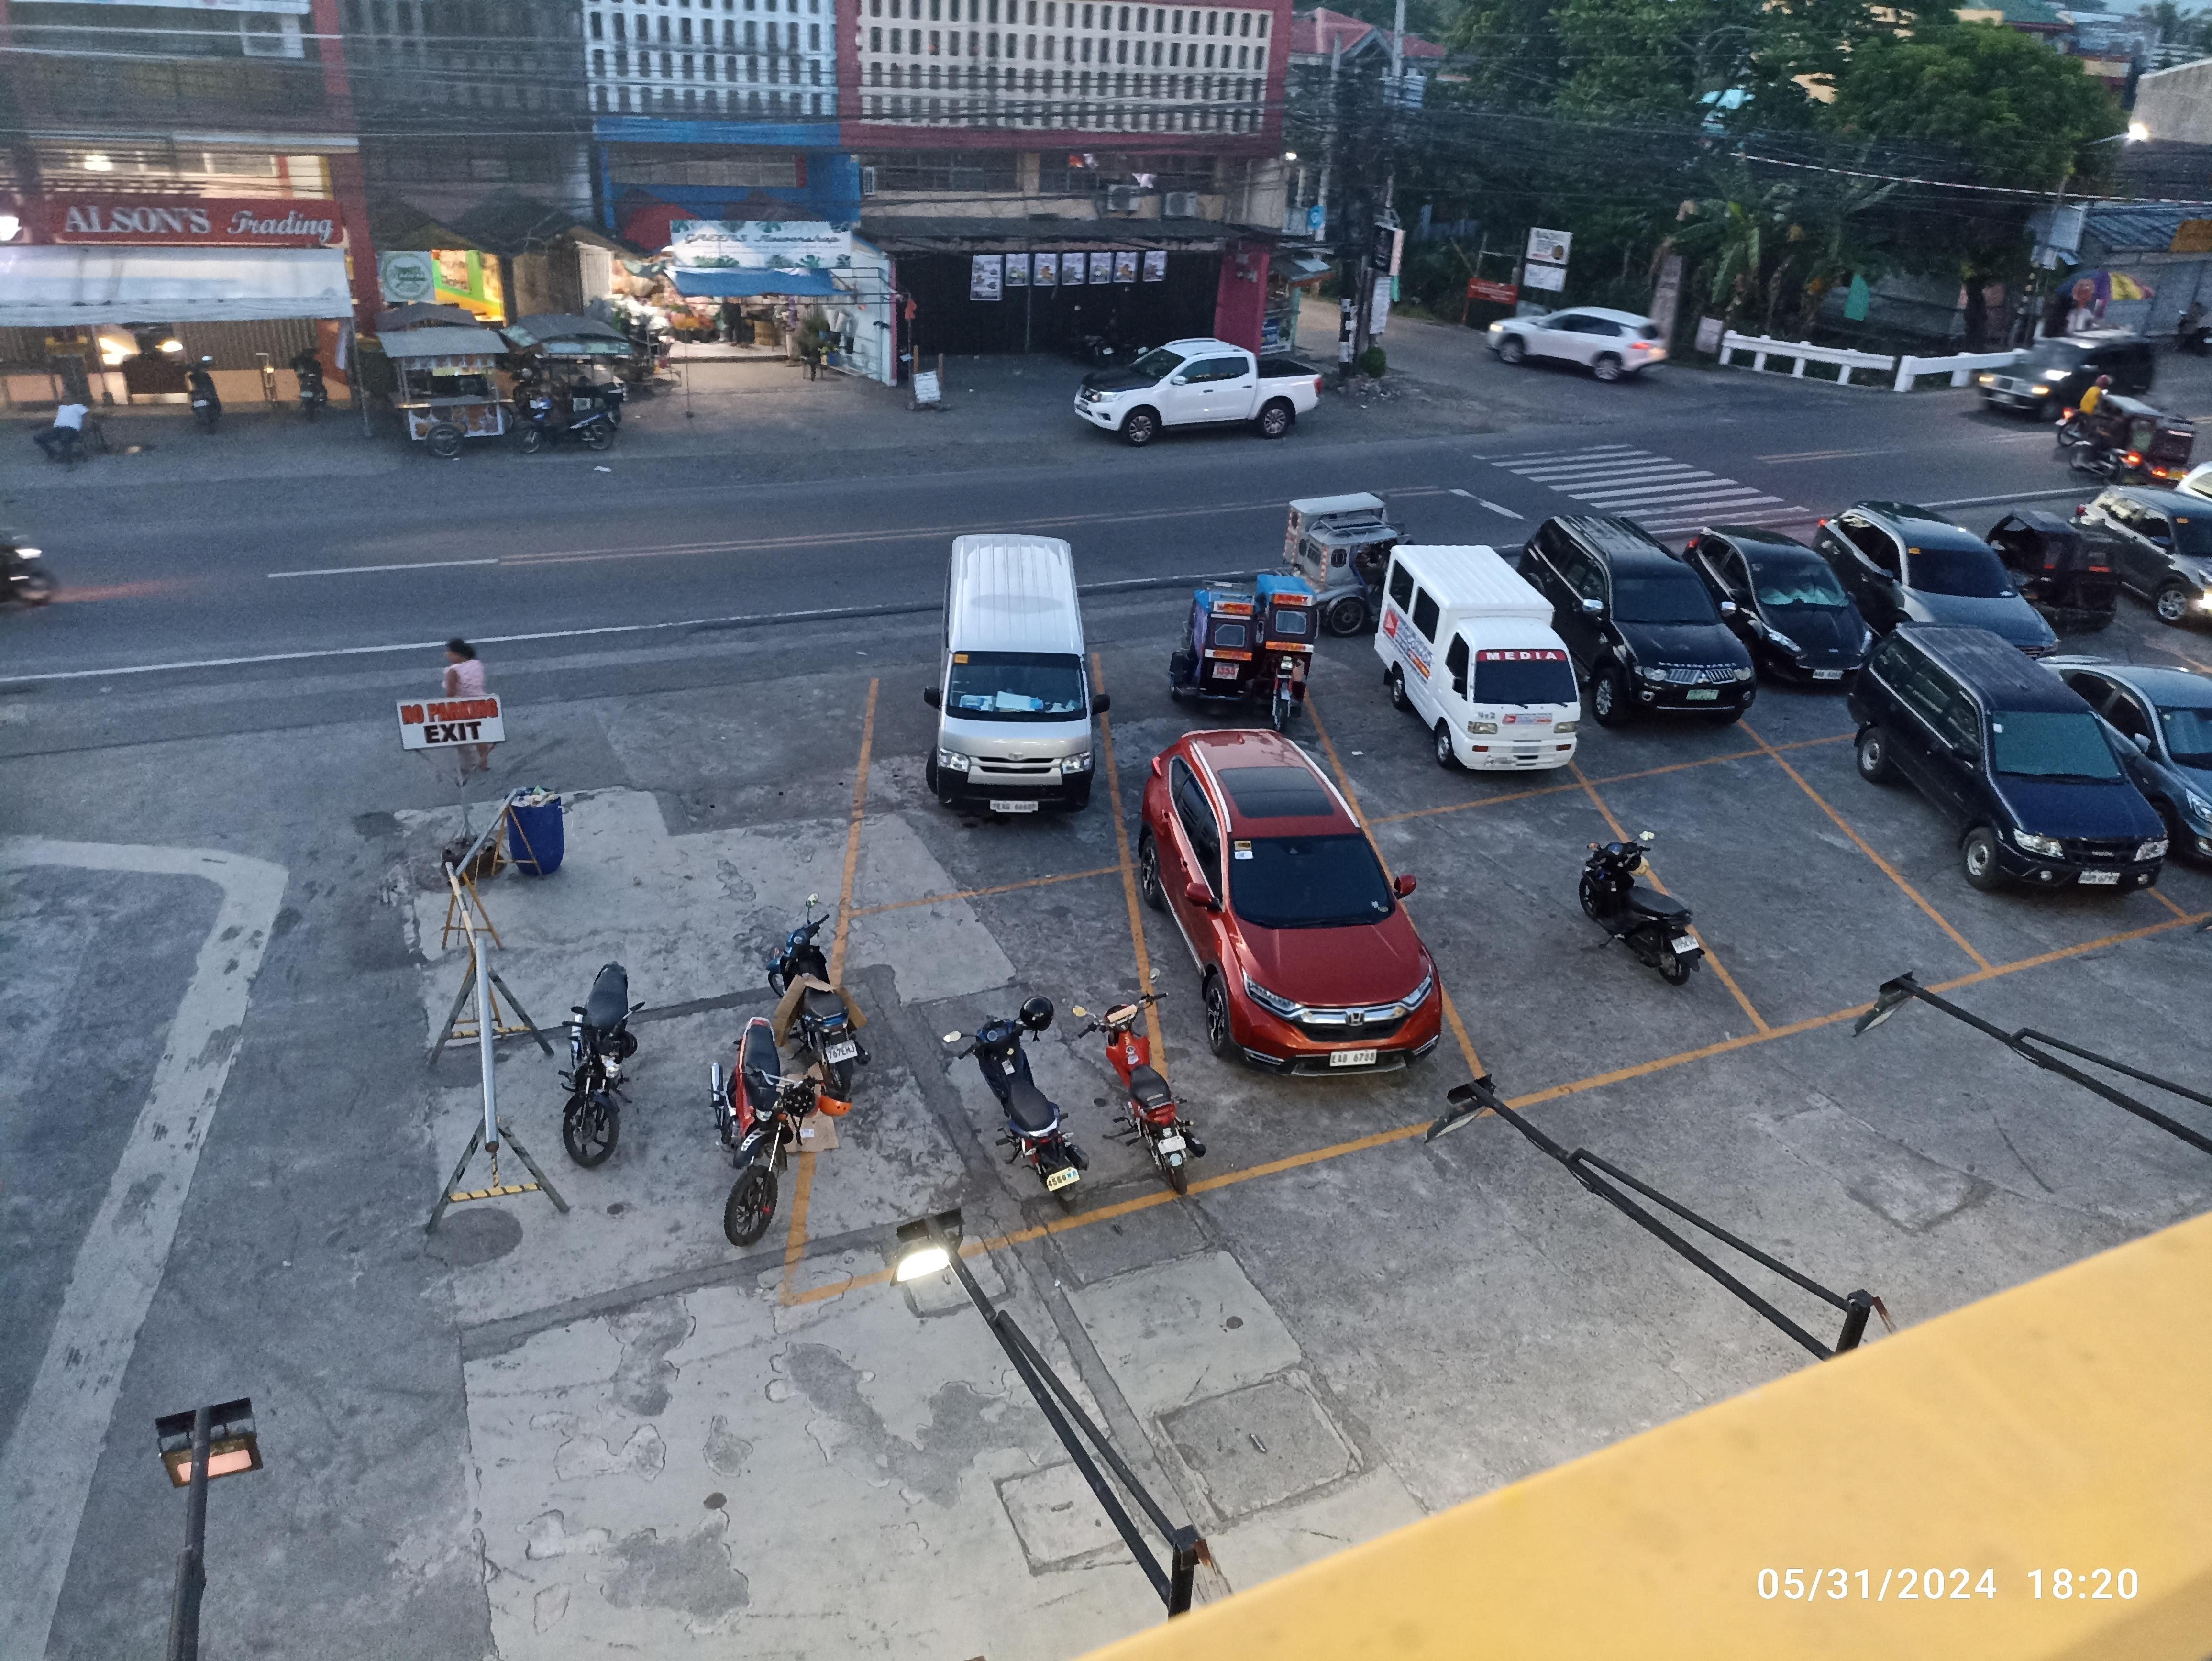occupied: (775, 860, 1193, 1316), (1116, 818, 1509, 1202), (1355, 780, 1772, 1118), (1771, 714, 2189, 970), (834, 653, 1132, 923), (1275, 616, 1594, 827), (1090, 639, 1373, 872)
vacant: (1574, 743, 2001, 1043)
